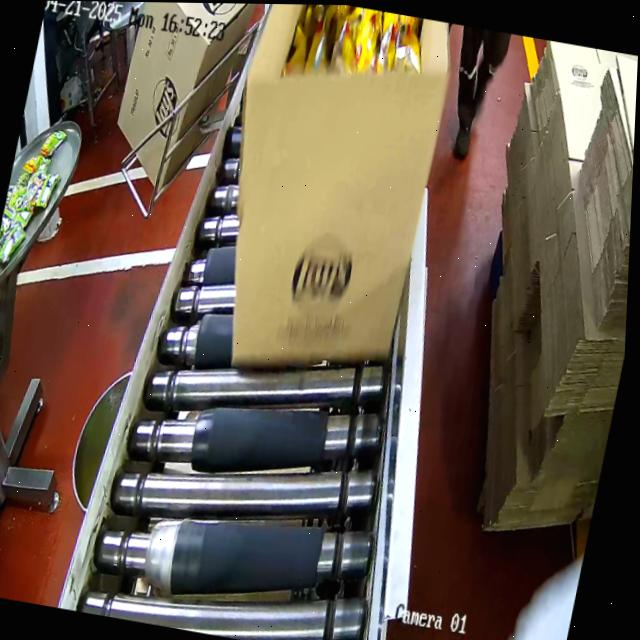SALTED: (277, 6, 436, 100)
